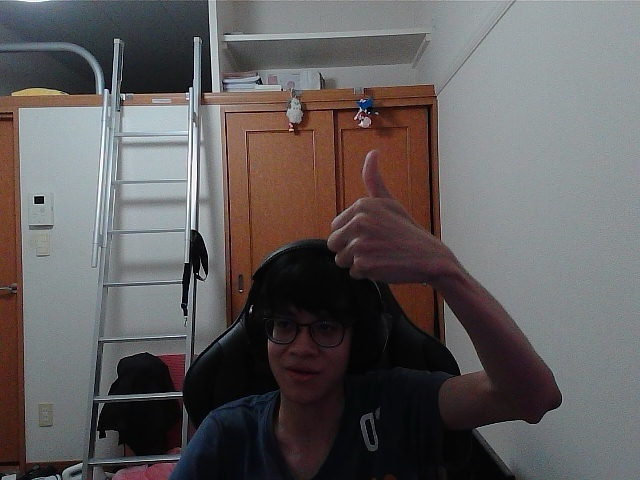thumb_up: (333, 160, 420, 273)
